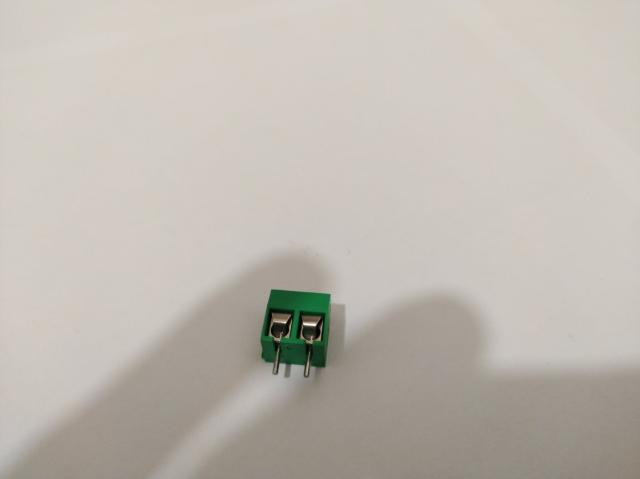terminal_block: (260, 288, 332, 378)
